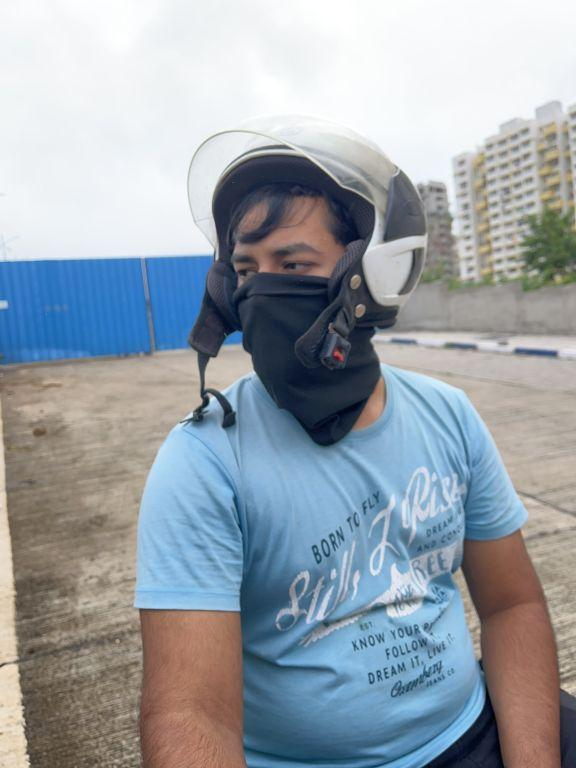helmet: (174, 107, 438, 437)
